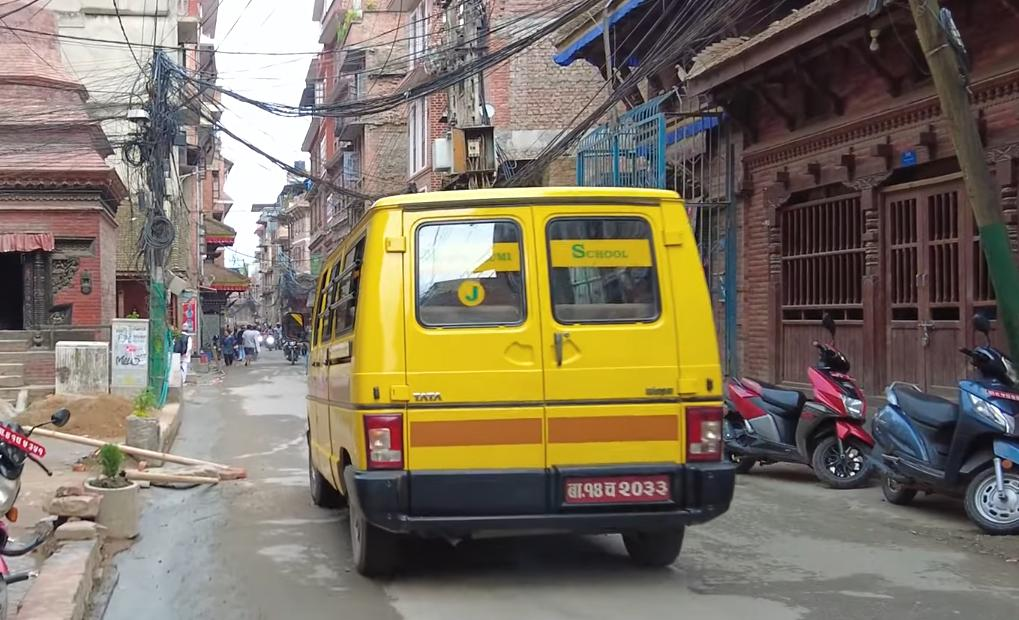school_bus: (303, 185, 745, 587)
scooter: (872, 344, 1019, 539), (719, 328, 876, 491)
